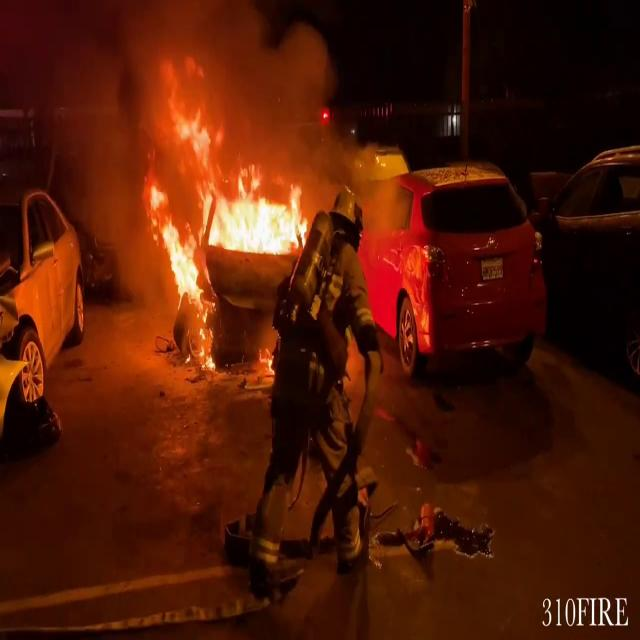Fire: (139, 70, 311, 344)
